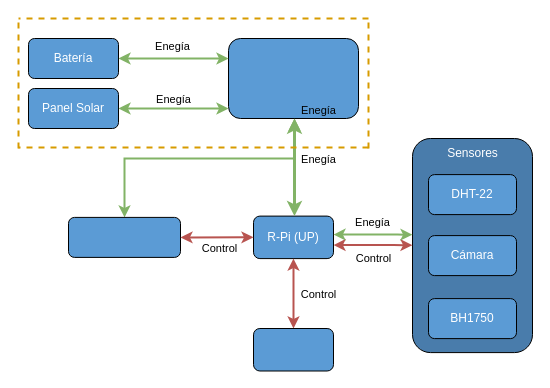
The diagram is 550 pixels wide and 388 high, and some of its shapes have lost their labels. The box of each missing label's shape, as (x1, y1, x2, y2) in pixels:
Cargador de la Mochila: (68, 216, 180, 257)
Power Manager: (228, 38, 358, 118)
RTC: (252, 328, 334, 371)
